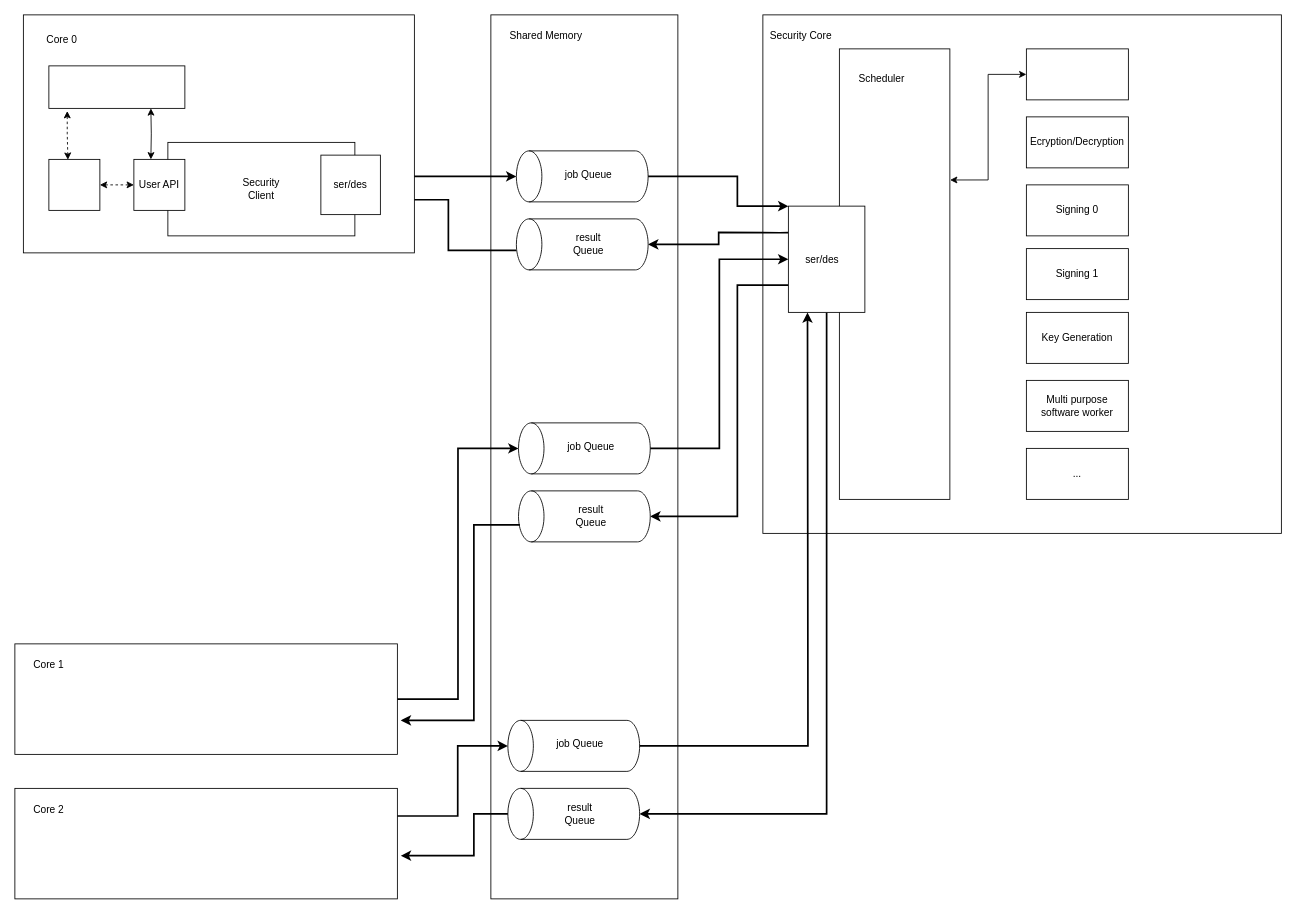
This 1296x914 diagram has some shape labels left out. Each missing label, with the centre of its shape:
Hashing: pixel 1077 74
Sync API: pixel 74 184
User Application: pixel 116 86
